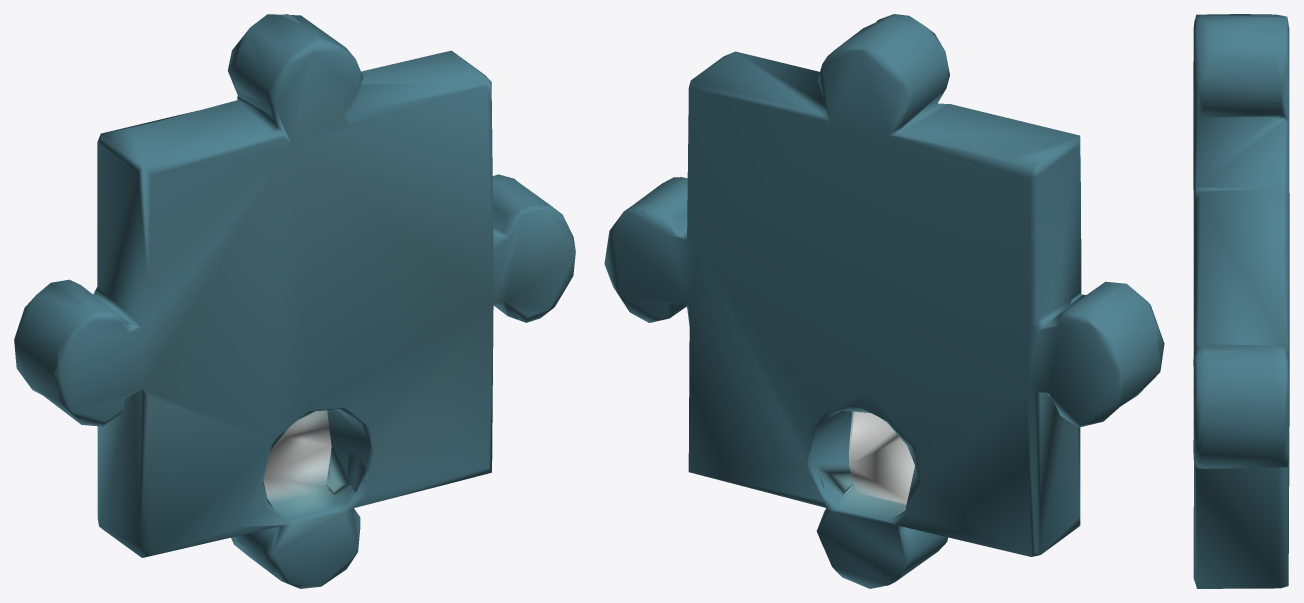
The model's file is gen3d-puzzle-piece-lod1.glb.
3 views of the same model, side by side, from view 1: azimuth 30°, elevation 25°; view 2: azimuth 150°, elevation 25°; view 3: azimuth 270°, elevation 25° (orthographic). The views are drawn at different scales.
Visible parts, largest first — view 1: part_0; view 2: part_0; view 3: part_0.
Part boxes in pixels (x1,y1,x2,y2): part_0: (14, 14, 575, 588); part_0: (604, 14, 1164, 588); part_0: (1193, 14, 1289, 588).
Bounding box in the file's own units: 0.9992 × 0.999 × 0.1567.
